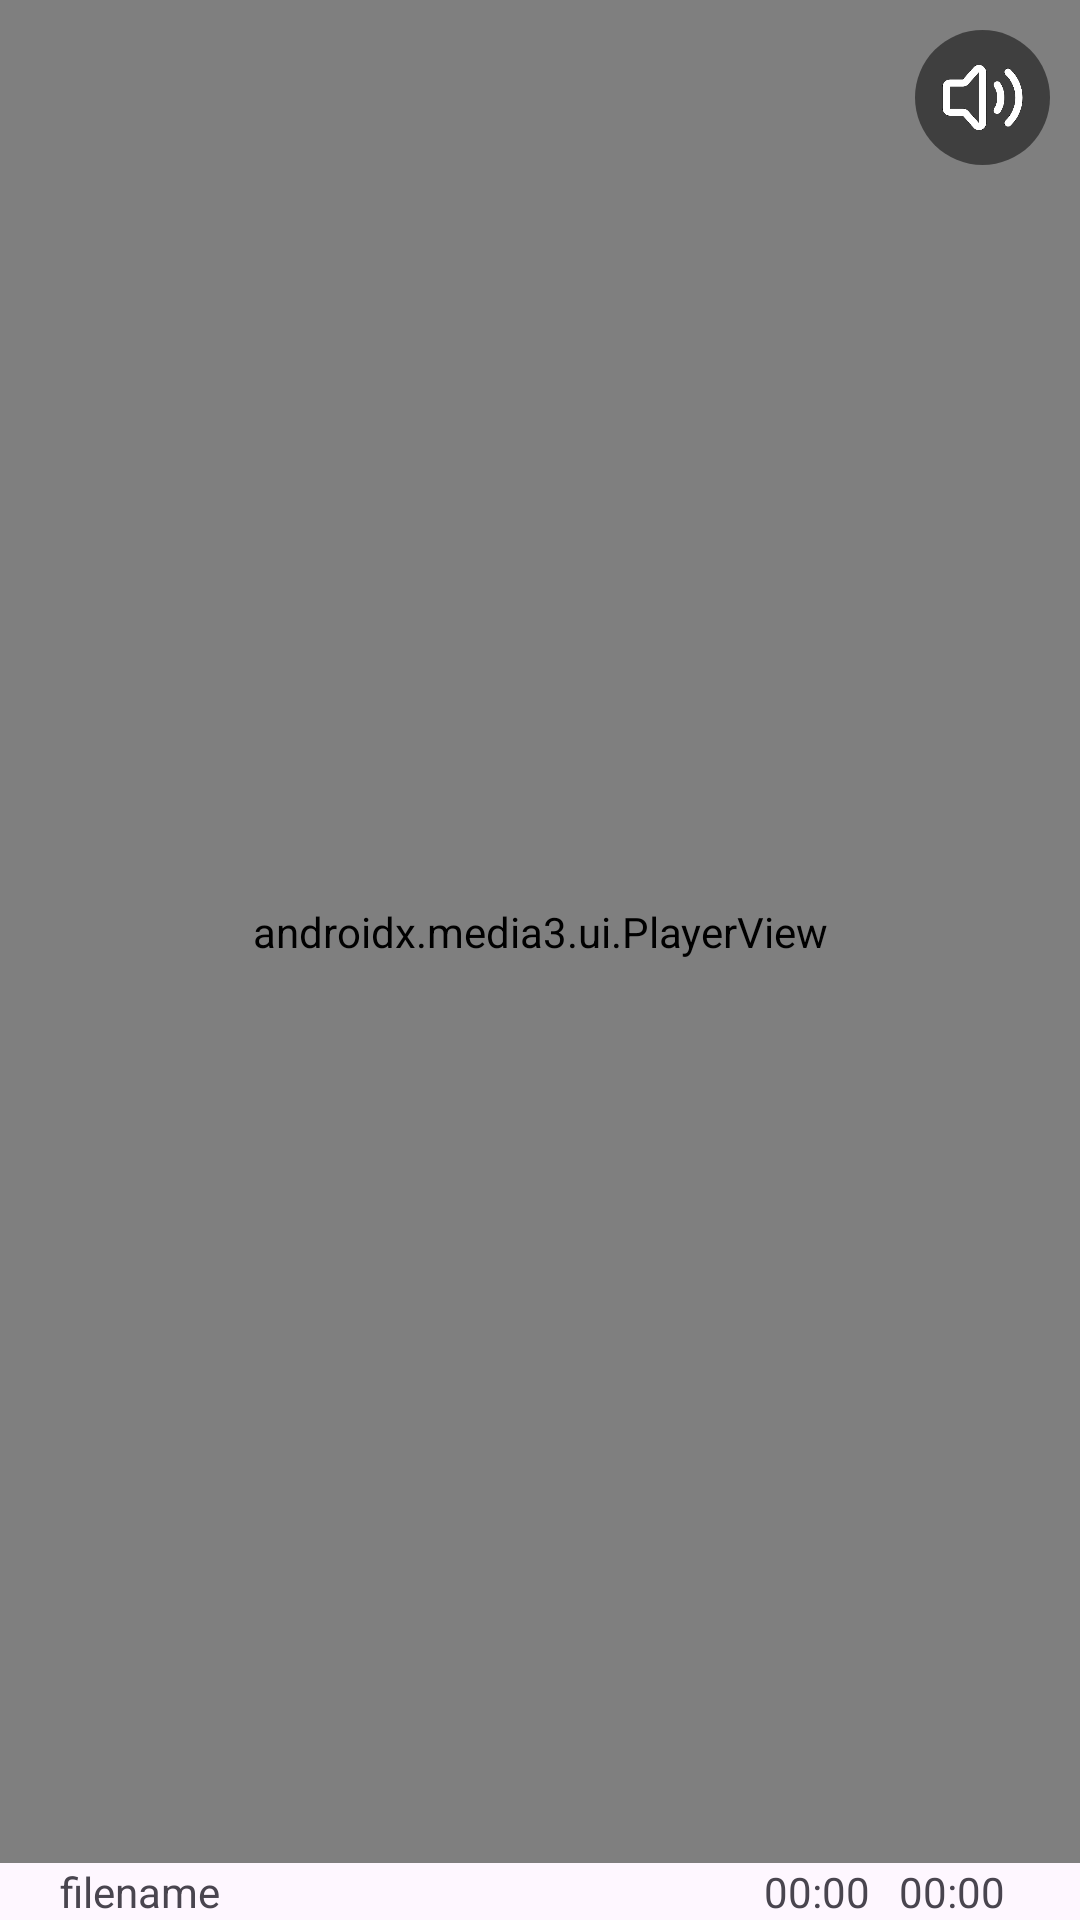

Named icons in this screenshot (1080 × 1920) and their centers, (x=x, y=y):
sound on: (x=982, y=97)
